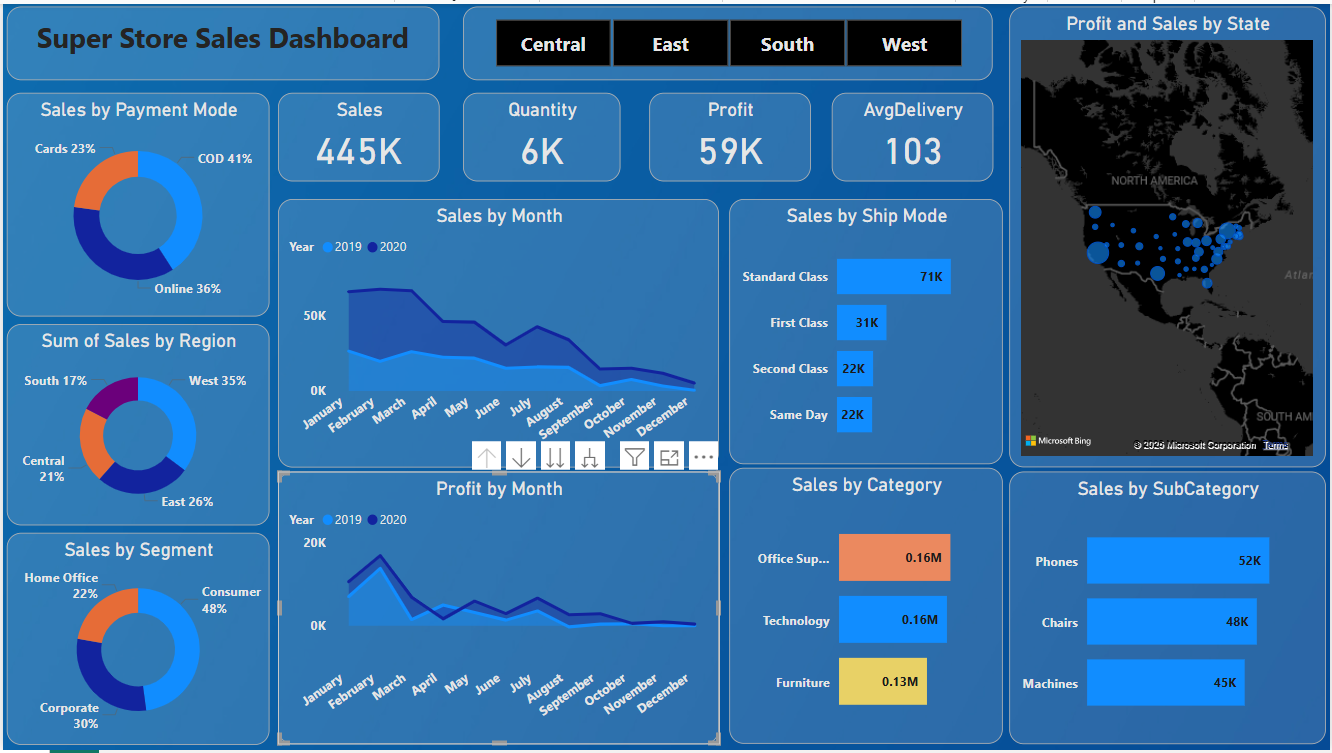

This screenshot's page, from the dashboard's own definition file:
{"tool":"powerbi","page":{"name":"Page 1","canvas":[1280,720],"ordinal":0},"visuals":[{"type":"clusteredBarChart","title":"Sales by Category","fields":{"Category":["SuperStore_Sales_Dataset.Category"],"Y":["Sum(SuperStore_Sales_Dataset.Sales)"]},"box":[700.9,447.6,264.2,266.6],"z":0},{"type":"clusteredBarChart","title":"Sales by SubCategory","fields":{"Category":["SuperStore_Sales_Dataset.Sub-Category"],"Y":["Sum(SuperStore_Sales_Dataset.Sales)"]},"box":[971.2,451.2,305.2,263],"z":1000},{"type":"clusteredBarChart","title":"Sales by Ship Mode","fields":{"Category":["SuperStore_Sales_Dataset.Ship Mode"],"Y":["Sum(SuperStore_Sales_Dataset.Sales)"]},"box":[700.9,188.2,264.2,255.8],"z":2000},{"type":"stackedAreaChart","title":"Sales by Month","fields":{"Category":["SuperStore_Sales_Dataset.Order Date.Variation.Date Hierarchy.Month","SuperStore_Sales_Dataset.Order Date.Variation.Date Hierarchy.Day"],"Y":["Sum(SuperStore_Sales_Dataset.Sales)"],"Series":["SuperStore_Sales_Dataset.Order Date.Variation.Date Hierarchy.Year"]},"box":[265.4,188.2,425.9,259.4],"z":3000},{"type":"stackedAreaChart","title":"Profit by Month","fields":{"Category":["SuperStore_Sales_Dataset.Order Date.Variation.Date Hierarchy.Month","SuperStore_Sales_Dataset.Order Date.Variation.Date Hierarchy.Day"],"Series":["SuperStore_Sales_Dataset.Order Date.Variation.Date Hierarchy.Year"],"Y":["Sum(SuperStore_Sales_Dataset.Profit)"]},"box":[265.4,451.2,425.9,263],"z":4000},{"type":"map","title":"Profit and Sales by State","fields":{"Category":["SuperStore_Sales_Dataset.State"],"Size":["Sum(SuperStore_Sales_Dataset.Sales)"]},"box":[971.2,2.4,305.2,445.2],"z":5000},{"type":"donutChart","title":"Sales by Segment","fields":{"Category":["SuperStore_Sales_Dataset.Segment"],"Y":["Sum(SuperStore_Sales_Dataset.Sales)"]},"box":[3.6,510.3,253.4,205.1],"z":6000},{"type":"donutChart","title":"Sales by Payment Mode","fields":{"Y":["Sum(SuperStore_Sales_Dataset.Sales)"],"Category":["SuperStore_Sales_Dataset.Payment Mode"]},"box":[3.6,85.7,253.4,216],"z":7000},{"type":"slicer","fields":{"Values":["SuperStore_Sales_Dataset.Region"]},"box":[444,2.4,511.5,71.2],"z":8000},{"type":"textbox","box":[3.6,2.4,417.4,71.2],"z":9000},{"type":"card","title":"Sales","fields":{"Values":["Sum(SuperStore_Sales_Dataset.Sales)"]},"box":[265.4,85.7,155.6,85.7],"z":10000},{"type":"card","title":"Quantity","fields":{"Values":["Sum(SuperStore_Sales_Dataset.Quantity)"]},"box":[444,85.7,152,85.7],"z":11000},{"type":"card","title":"Profit","fields":{"Values":["Sum(SuperStore_Sales_Dataset.Profit)"]},"box":[623.7,85.7,155.6,85.7],"z":12000},{"type":"card","title":"AvgDelivery","fields":{"Values":["Avg(SuperStore_Sales_Dataset.AvgDelivery)"]},"box":[799.9,85.7,155.6,85.7],"z":13000},{"type":"donutChart","fields":{"Y":["Sum(SuperStore_Sales_Dataset.Sales)"],"Category":["SuperStore_Sales_Dataset.Region"]},"box":[3.6,308.8,253.4,194.2],"z":14000}]}

Visuals, with their boxes in screenshot pixels (x1, y1, x2, y2), scaled from the page's 1280x720 canvas onto the 1332x753 screenshot:
"Sales by Category" clusteredBarChart: pyautogui.locateOnScreen(729, 468, 1004, 747)
"Sales by SubCategory" clusteredBarChart: pyautogui.locateOnScreen(1011, 472, 1328, 747)
"Sales by Ship Mode" clusteredBarChart: pyautogui.locateOnScreen(729, 197, 1004, 464)
"Sales by Month" stackedAreaChart: pyautogui.locateOnScreen(276, 197, 719, 468)
"Profit by Month" stackedAreaChart: pyautogui.locateOnScreen(276, 472, 719, 747)
"Profit and Sales by State" map: pyautogui.locateOnScreen(1011, 3, 1328, 468)
"Sales by Segment" donutChart: pyautogui.locateOnScreen(4, 534, 267, 748)
"Sales by Payment Mode" donutChart: pyautogui.locateOnScreen(4, 90, 267, 316)
slicer - SuperStore_Sales_Dataset.Region: pyautogui.locateOnScreen(462, 3, 994, 77)
textbox: pyautogui.locateOnScreen(4, 3, 438, 77)
"Sales" card: pyautogui.locateOnScreen(276, 90, 438, 179)
"Quantity" card: pyautogui.locateOnScreen(462, 90, 620, 179)
"Profit" card: pyautogui.locateOnScreen(649, 90, 811, 179)
"AvgDelivery" card: pyautogui.locateOnScreen(832, 90, 994, 179)
donutChart - Sum(SuperStore_Sales_Dataset.Sales) x SuperStore_Sales_Dataset.Region: pyautogui.locateOnScreen(4, 323, 267, 526)
